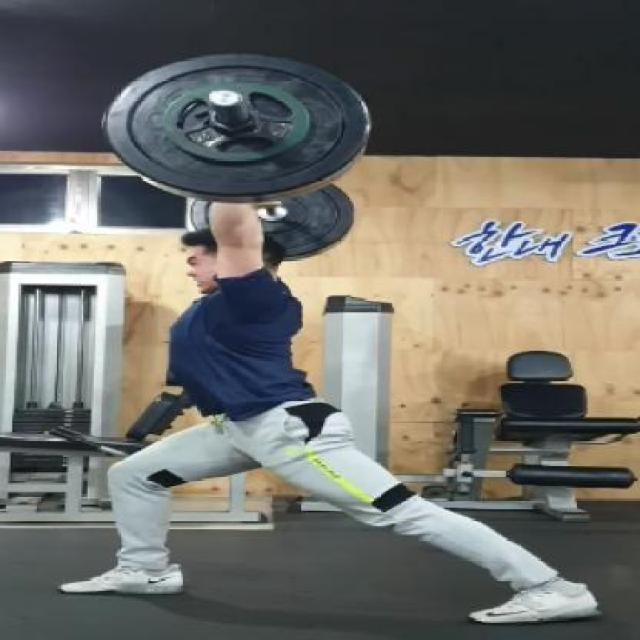barbell: (105, 49, 394, 209)
